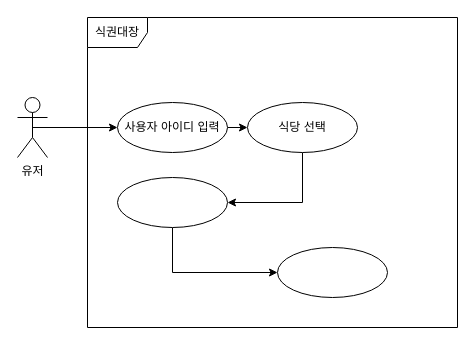
Some shapes in this 475 by 345 pixel diagram are drawn without their labels. The shapes that lost their labels are listed below. From the top down, each one's box as (x1, y1, x2, y2) in pixels, then its label:
(116, 176, 228, 228): 메뉴 선택
(276, 246, 388, 298): print(출력)
